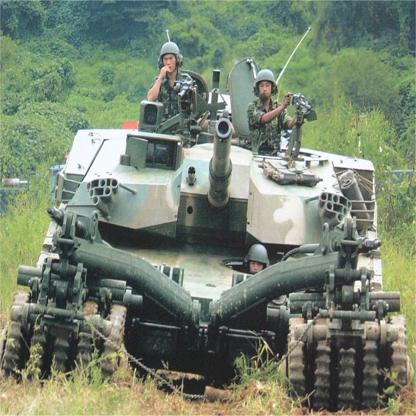Tank: (5, 62, 415, 413)
